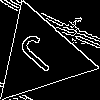J: (15, 31, 68, 82)
